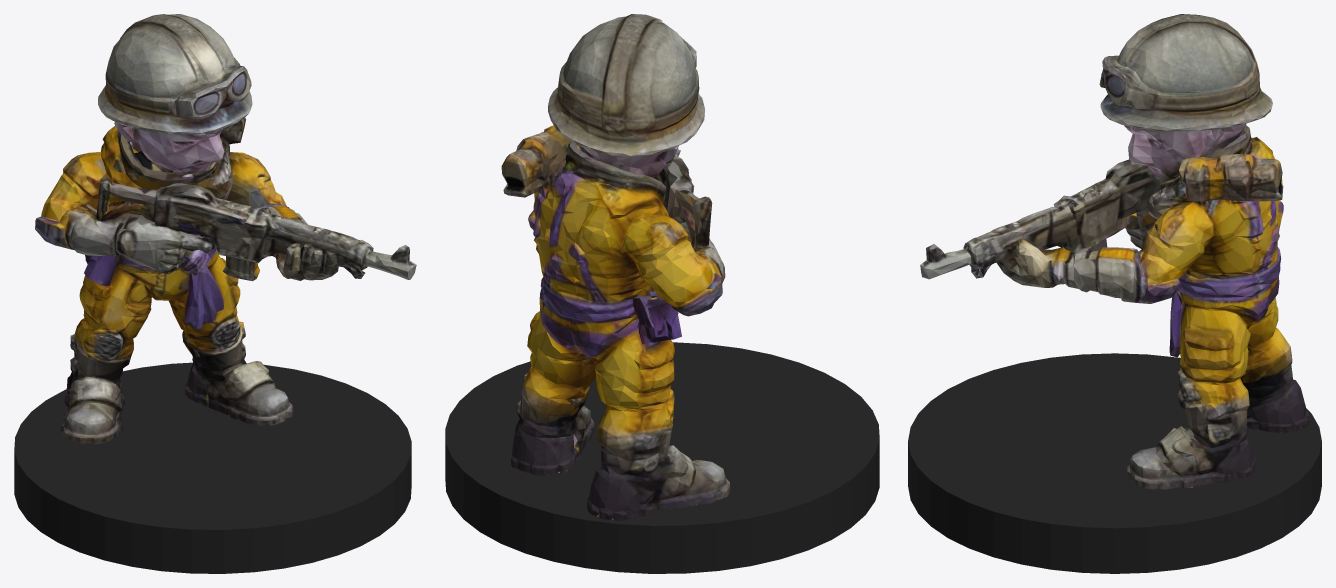
The model's file is neophyte-firearm.glb.
3 renders of one model, left to right at view 1: azimuth 30°, elevation 25°; view 2: azimuth 150°, elevation 25°; view 3: azimuth 270°, elevation 25°, orthographic. The views are drawn at different scales.
Visible parts, largest first — view 1: figure, base; view 2: figure, base; view 3: figure, base.
Part boxes in pixels (bbox=[...]): figure: bbox=[35, 14, 416, 444]; base: bbox=[14, 362, 411, 573]; figure: bbox=[501, 14, 730, 520]; base: bbox=[445, 342, 879, 573]; figure: bbox=[920, 14, 1309, 489]; base: bbox=[908, 353, 1321, 573].
Bounding box in the file's own units: 0.9843 × 1.22 × 0.9843.
2 materials, 1 textured.
